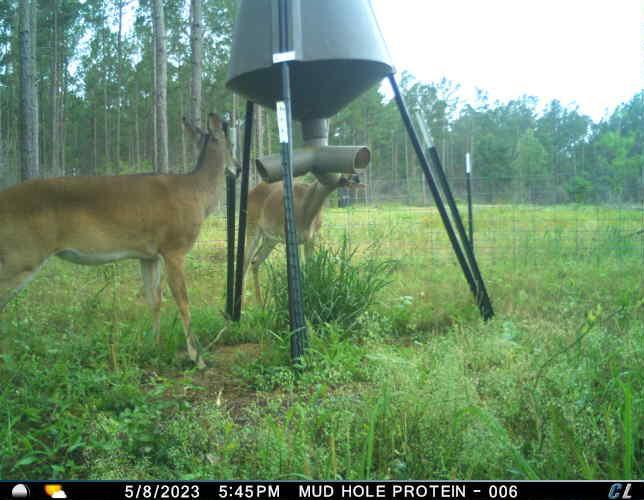Deer: (1, 112, 243, 379), (240, 170, 370, 313)
